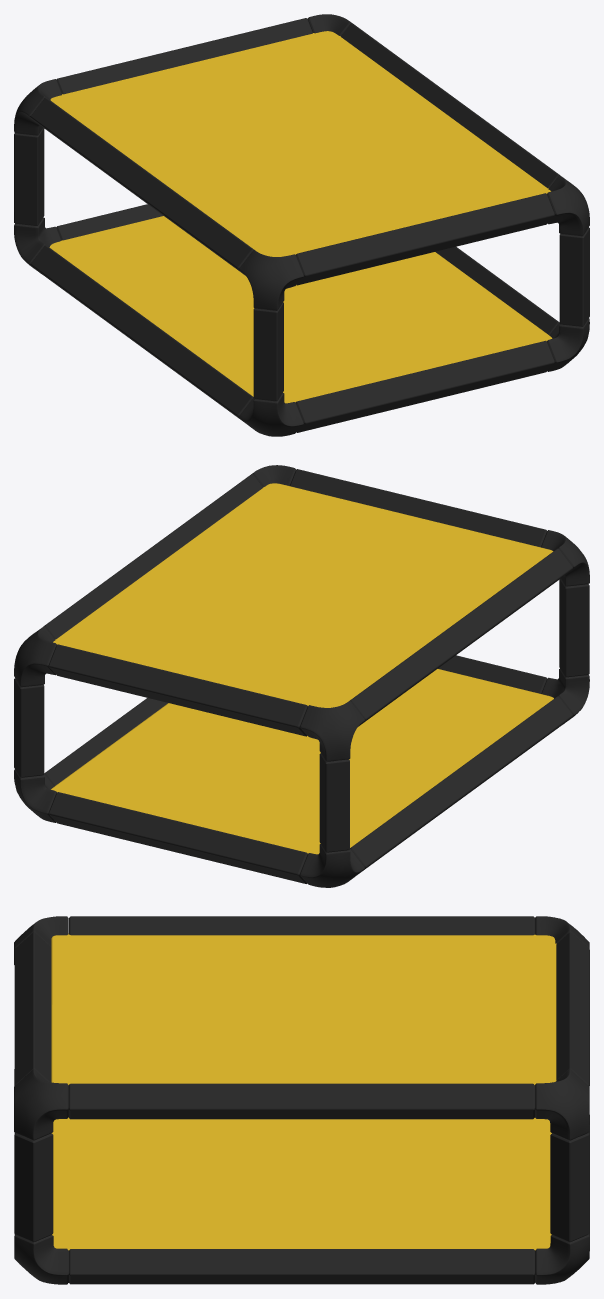
The picture shows the model from 3 angles, top to bottom: view 1: azimuth 30°, elevation 25°; view 2: azimuth 150°, elevation 25°; view 3: azimuth 270°, elevation 25°; orthographic projection. The views are drawn at different scales.
Parts seen in each view (by area): view 1: 229x329x79; view 2: 229x329x79; view 3: 229x329x79.
Boxes of the visible parts, x1,y1,x2,y2 form: 229x329x79: (14,14,589,436); 229x329x79: (14,465,589,887); 229x329x79: (14,916,589,1284).
Bounding box in the file's own units: 0.3067 × 0.1566 × 0.4063.
